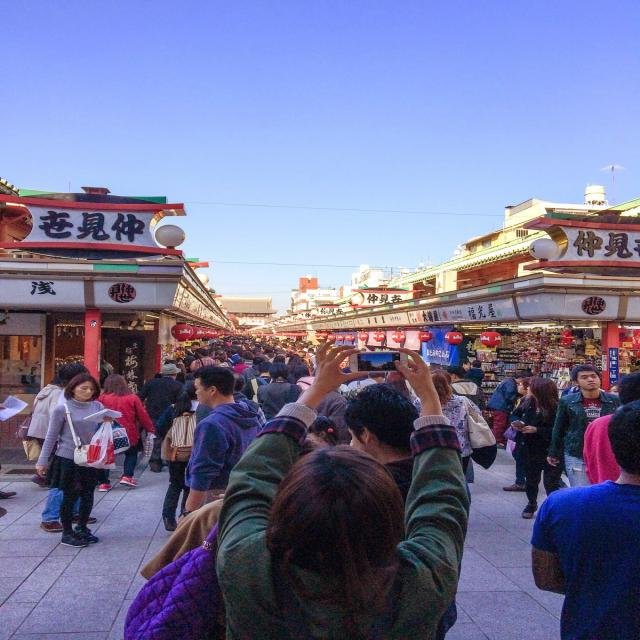body: (210, 338, 473, 639), (340, 383, 473, 637), (527, 400, 639, 640), (34, 372, 132, 550), (176, 364, 264, 526), (178, 336, 420, 382), (411, 368, 484, 506), (548, 363, 626, 489), (40, 378, 102, 532), (152, 381, 214, 534), (93, 373, 157, 493), (501, 376, 567, 492), (516, 378, 564, 520), (583, 372, 640, 485), (16, 372, 66, 488), (194, 371, 268, 434), (0, 392, 30, 520), (489, 370, 532, 450), (136, 363, 185, 427), (255, 362, 304, 422), (443, 365, 486, 409), (0, 352, 39, 395), (311, 415, 344, 452), (463, 359, 486, 389), (558, 368, 580, 394), (341, 382, 375, 398), (604, 378, 628, 398), (247, 382, 268, 401), (101, 356, 116, 378), (461, 360, 471, 370)
